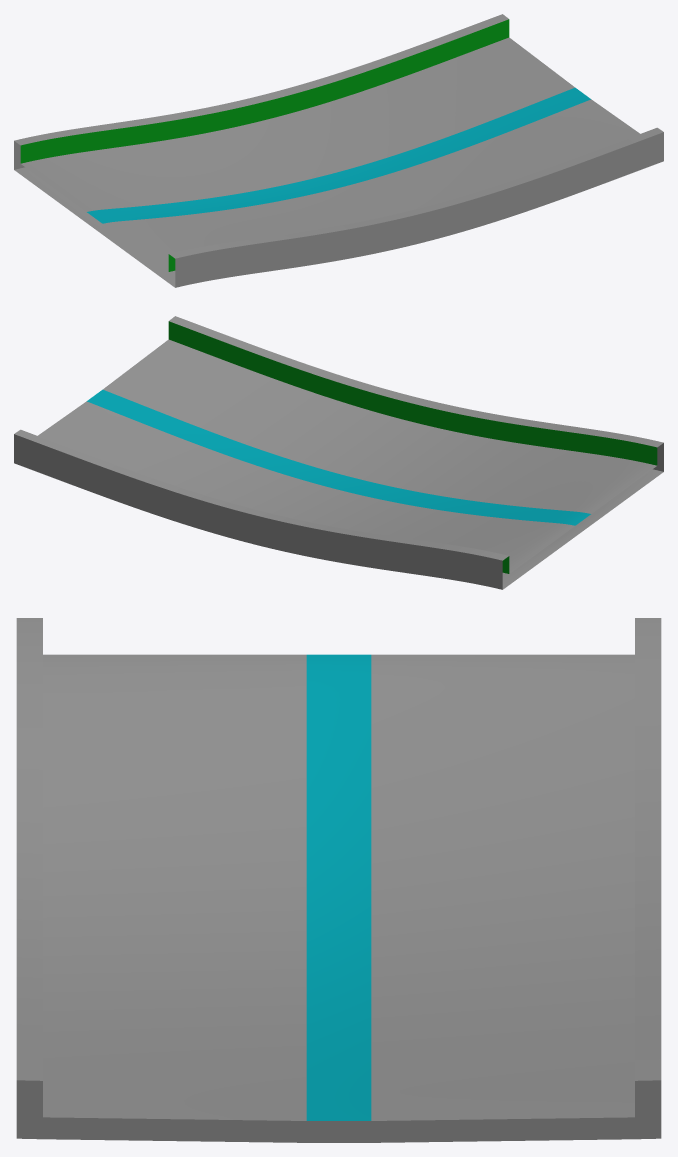
The model's file is mesh_road_bump_down.FBX.
3 views of the same model, one above another, from view 1: azimuth 30°, elevation 25°; view 2: azimuth 150°, elevation 25°; view 3: azimuth 270°, elevation 25° (orthographic). The views are drawn at different scales.
Visible parts, largest first — view 1: Box001; view 2: Box001; view 3: Box001.
Boxes of the visible parts, x1,y1,x2,y2 form: Box001: [14, 14, 663, 287]; Box001: [14, 316, 663, 589]; Box001: [16, 618, 661, 1142].
Size of the model in its own units: 70 by 8 by 40.
